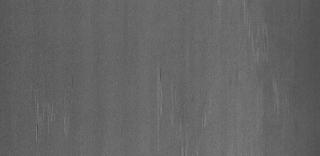silk spot: (146, 56, 198, 134), (224, 18, 280, 65)
